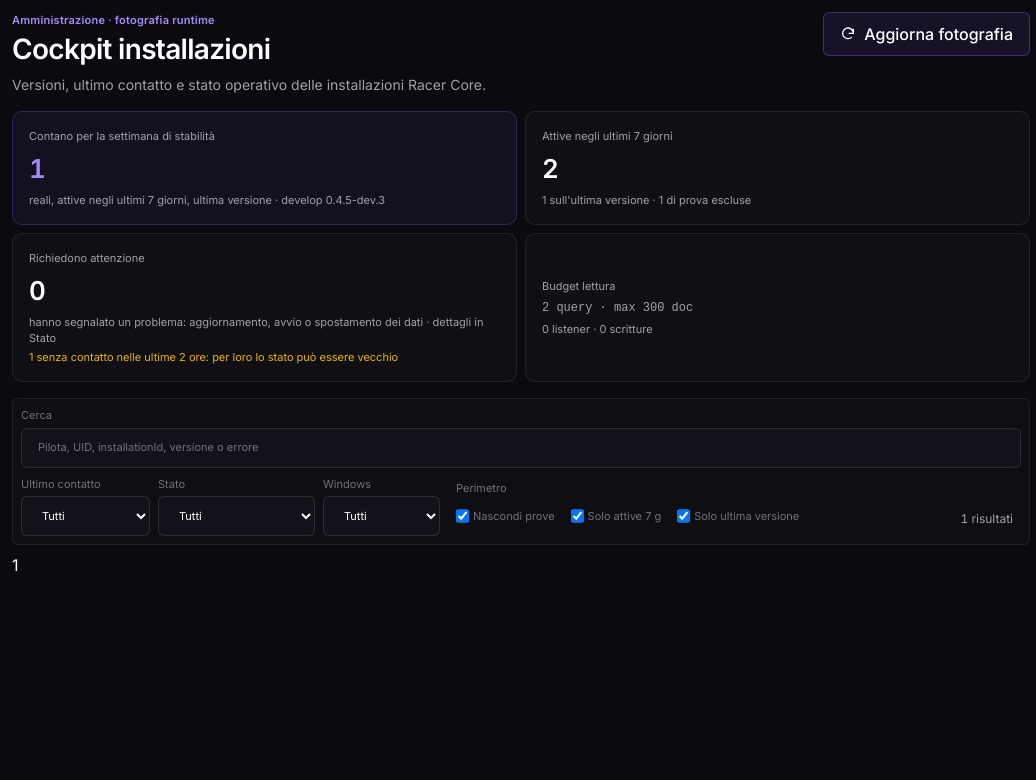
Scenario: admin cockpit scope › counts only real, active (7 d), latest-version installations and hides tests by default
Expected: the text "1" below "Contano per la settimana di stabilità" is shown, [29,153,45,184]
Expected: the text with class "rows" reads "1", [12,555,18,575]
Click the checkbox labelled "Nascondi prove" at (462, 516), box [456,496,469,536]
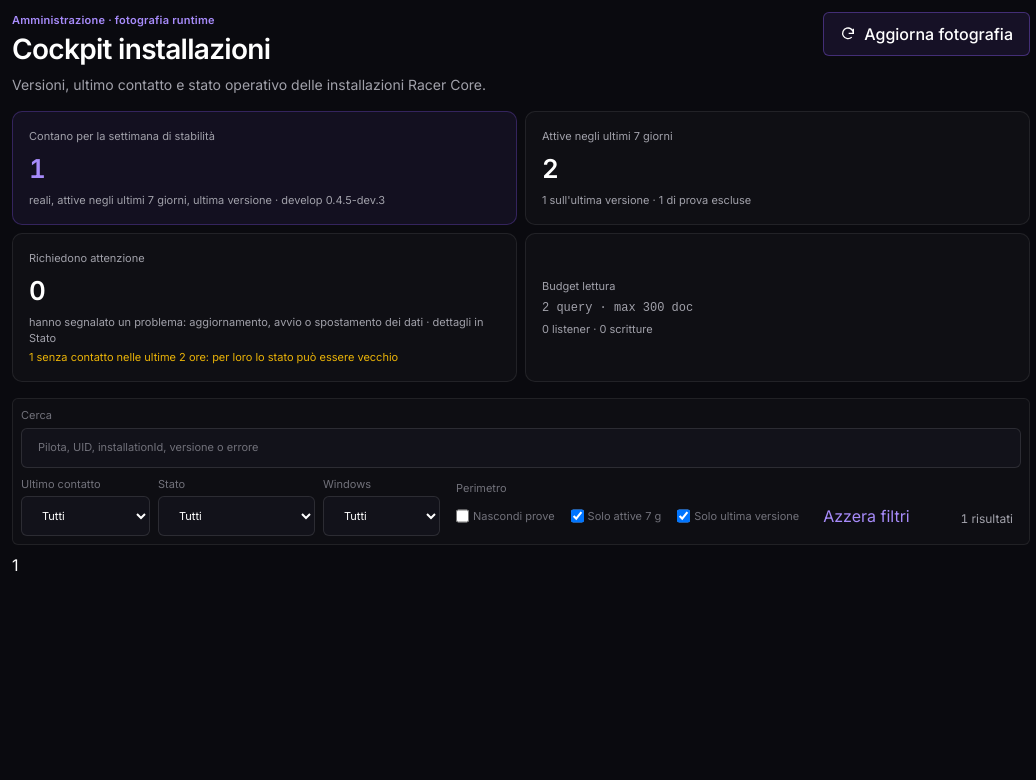
Click the checkbox labelled "Solo attive 7 g" at (577, 516), box [571,496,584,536]
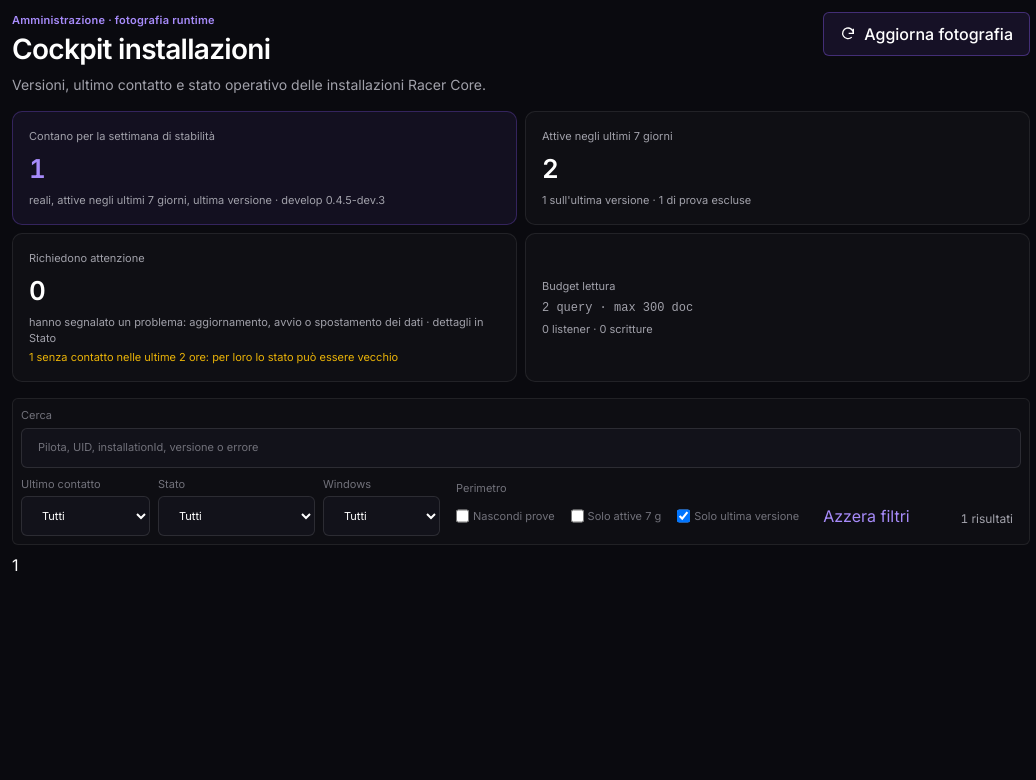
Click the checkbox labelled "Solo ultima versione" at (684, 516), box [677,496,690,536]
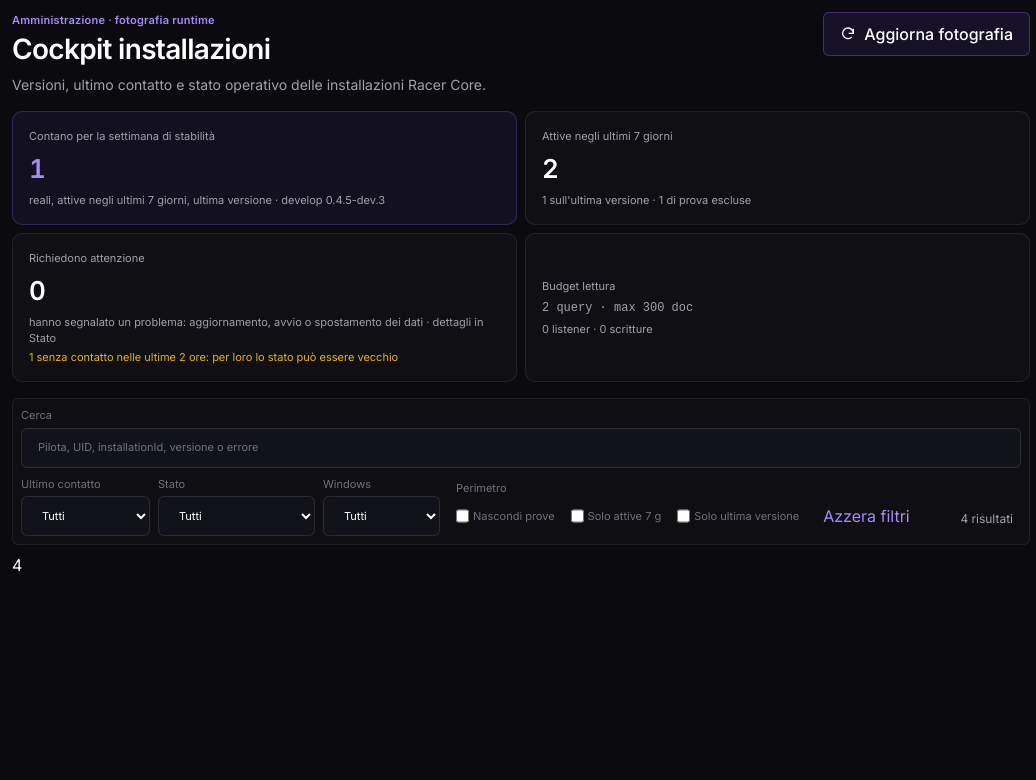
Now the text with class "rows" reads "4", box [12,555,22,575]
